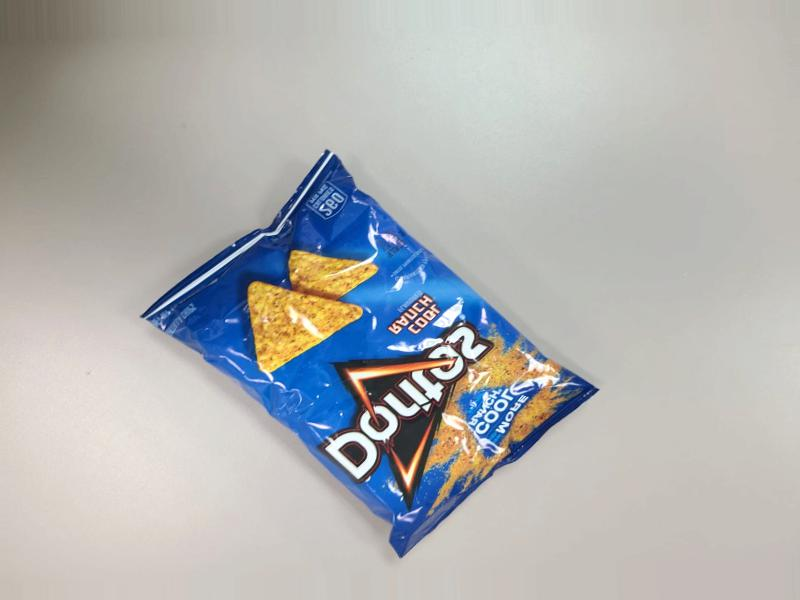doritos: (146, 251, 530, 600)
